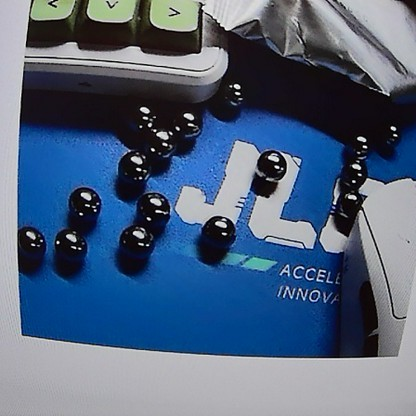ironball: (251, 143, 301, 191), (56, 180, 105, 224), (18, 221, 52, 277), (199, 210, 241, 251), (117, 150, 159, 186), (49, 228, 85, 269), (117, 218, 152, 259), (141, 125, 180, 161), (137, 186, 172, 224), (217, 80, 250, 113), (343, 124, 374, 157), (375, 119, 404, 150), (341, 157, 369, 186), (176, 109, 201, 140), (334, 190, 362, 216), (137, 101, 158, 130)
